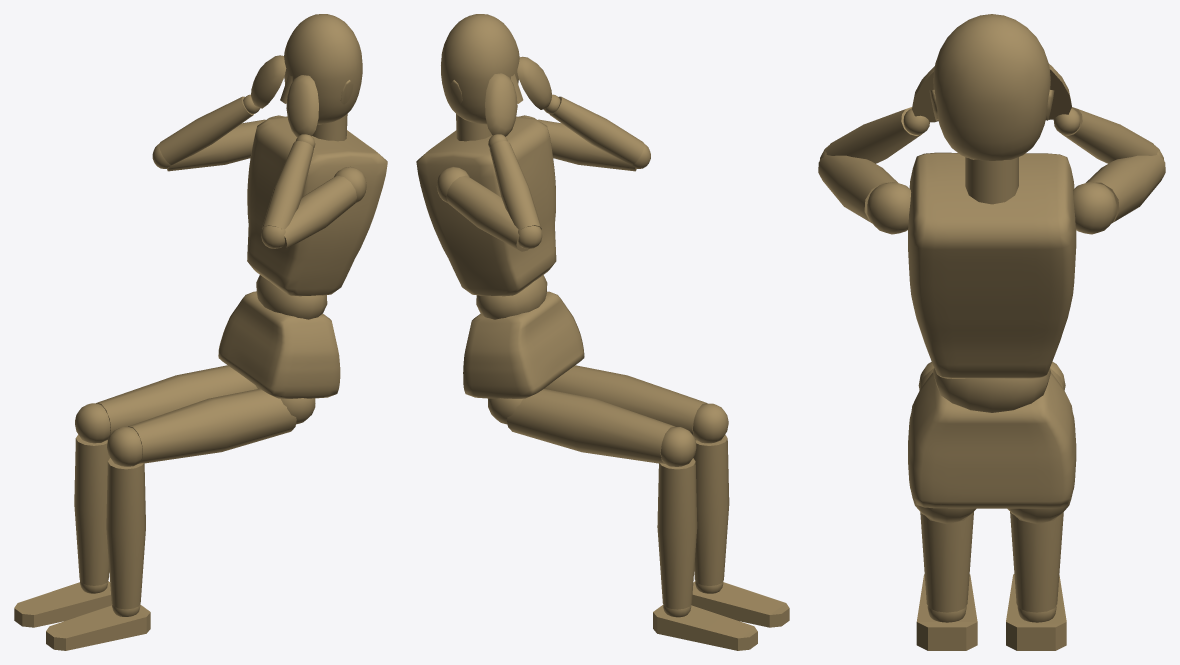
Rendered from spee_no_evil.fbx.
3 views of the same model, side by side, from view 1: azimuth 30°, elevation 25°; view 2: azimuth 150°, elevation 25°; view 3: azimuth 270°, elevation 25° (orthographic). The views are drawn at different scales.
Visible parts, largest first — view 1: see_no_evil_puppet; view 2: see_no_evil_puppet; view 3: see_no_evil_puppet.
Boxes of the visible parts, x1,y1,x2,y2 form: see_no_evil_puppet: [14, 14, 387, 650]; see_no_evil_puppet: [416, 14, 789, 650]; see_no_evil_puppet: [818, 14, 1165, 650].
Size of the model in its own units: 5.51 by 8.73 by 3.58.
